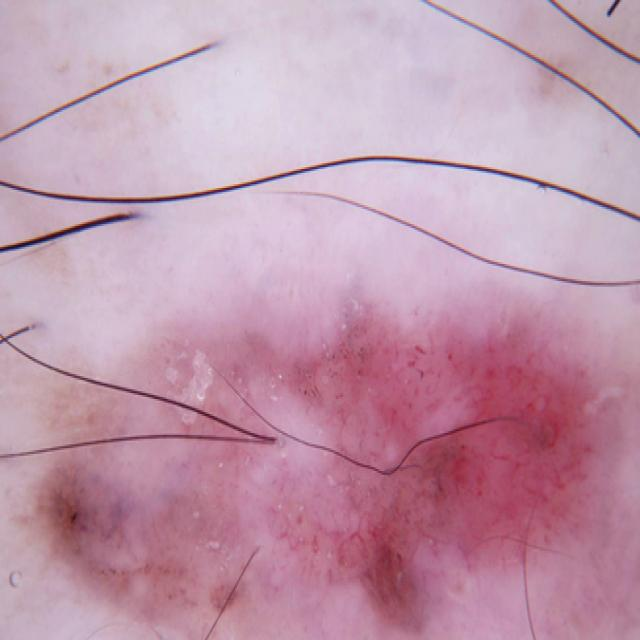Carcinoma: (32, 279, 636, 640)
